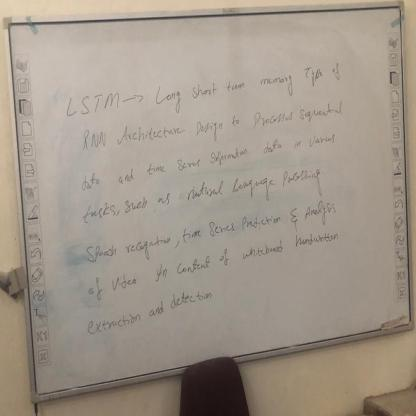Handwritten text: (82, 220, 349, 307), (77, 191, 346, 272), (54, 56, 352, 127), (68, 93, 353, 162), (73, 159, 333, 230), (72, 126, 346, 193), (73, 276, 229, 353)
